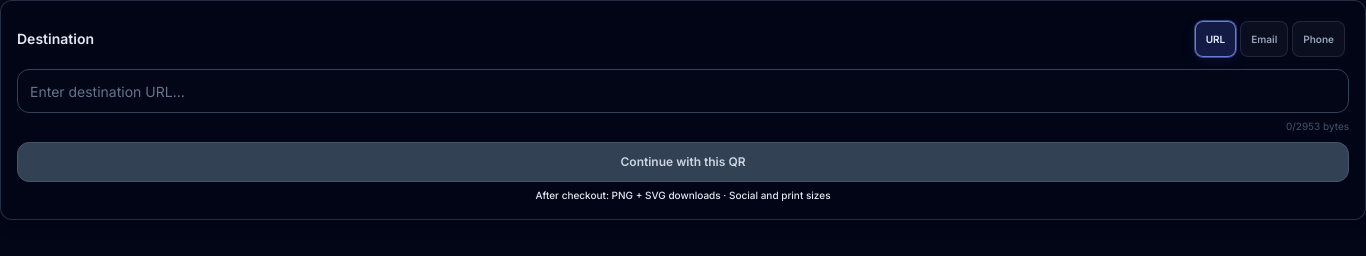
Test: PayloadInput › switches to Email and constructs a draft mailto payload without binding public preview
Click the button "Email".
click(1264, 39)  # box [1240,21,1288,57]
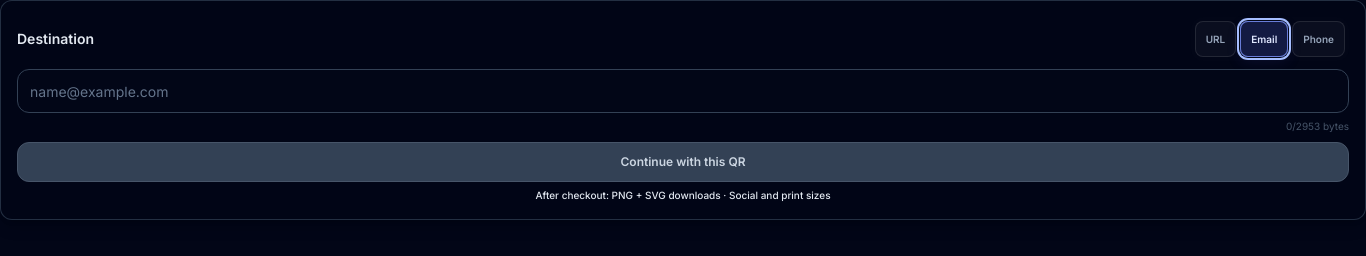
expect the field named "Email address" has attribute placeholder="name@example.com": met
Type "studio@example.com" into the field named "Email address".
click(683, 91); type("studio@example.com")  # box [17,69,1349,113]
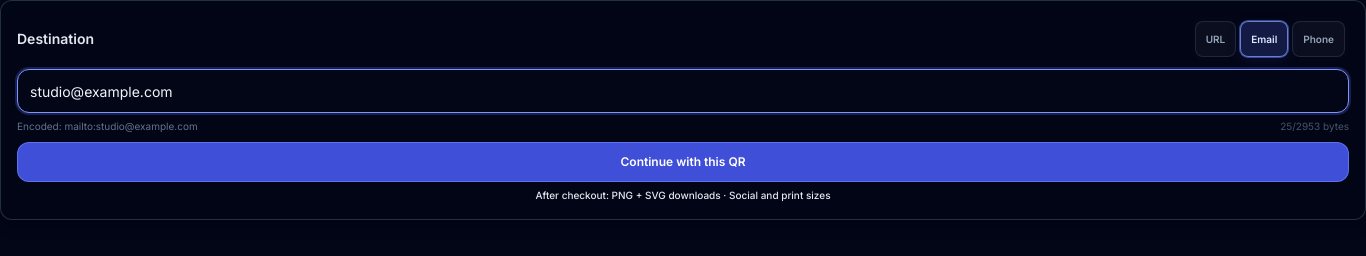
Click the button "Continue with this QR".
click(683, 162)  # box [17,142,1349,182]
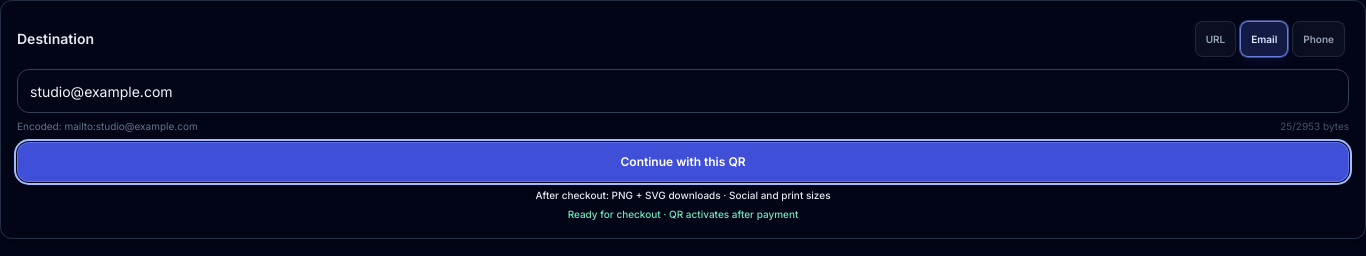
expect the message shows "QR activates after payment": met, box [568,208,798,220]
